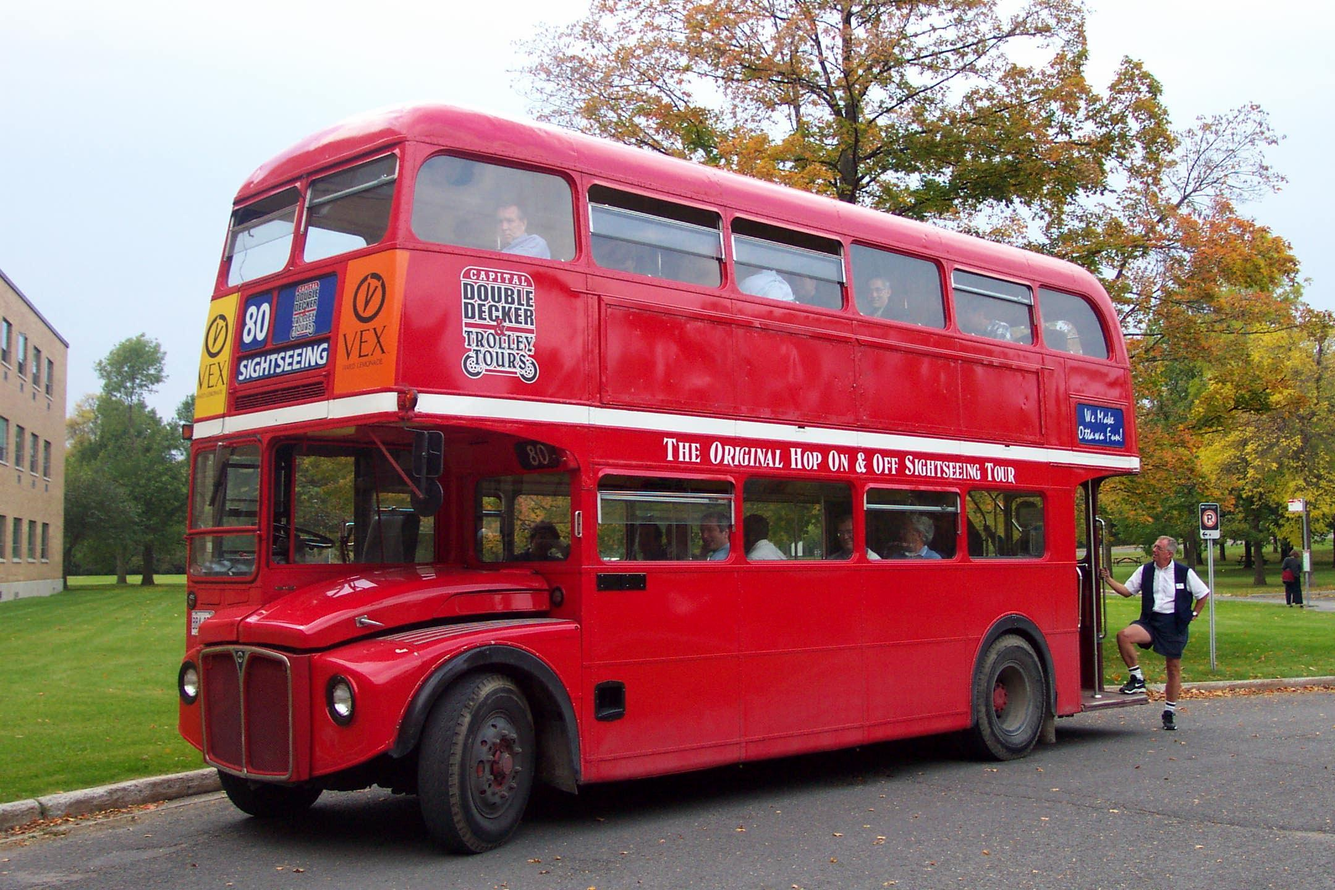Bus: (175, 103, 1142, 857)
